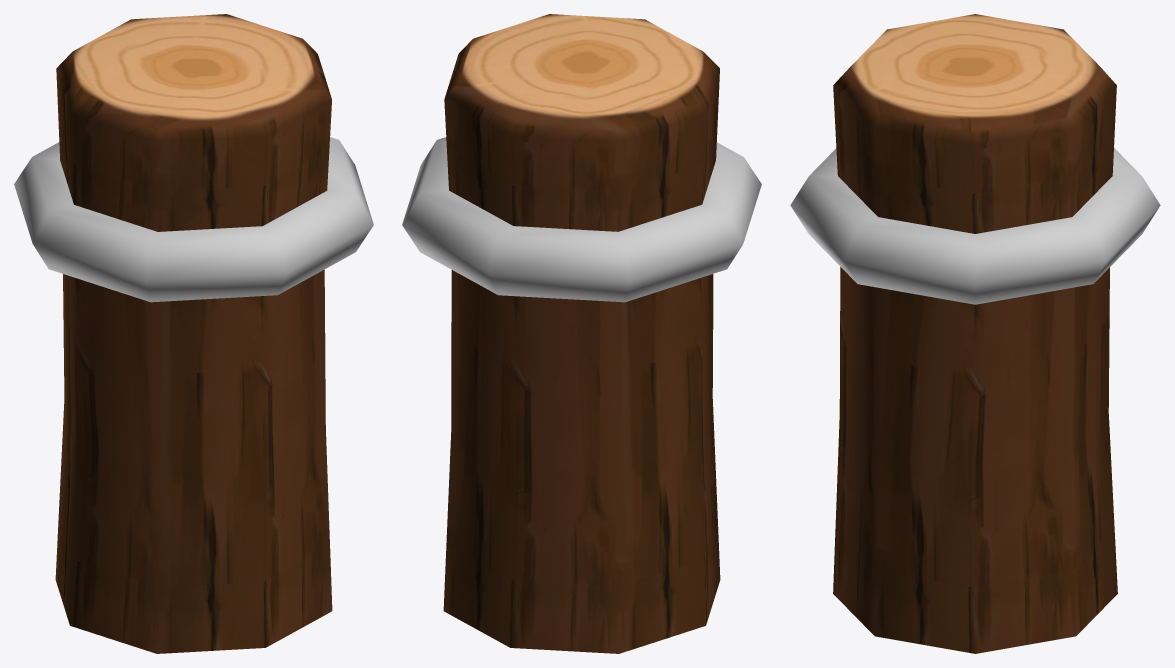
Rendered from fence_pillar_003.fbx.
3 views of the same model, side by side, from view 1: azimuth 30°, elevation 25°; view 2: azimuth 150°, elevation 25°; view 3: azimuth 270°, elevation 25° (orthographic).
Visible parts, largest first — view 1: fence_pillar_003; view 2: fence_pillar_003; view 3: fence_pillar_003.
Part boxes in pixels (left/top/right/bottom): fence_pillar_003: left=14, top=14, right=373, bottom=653; fence_pillar_003: left=402, top=14, right=761, bottom=653; fence_pillar_003: left=790, top=14, right=1160, bottom=653.
Bounding box in the file's own units: 59.18 × 59.18 × 92.92.
